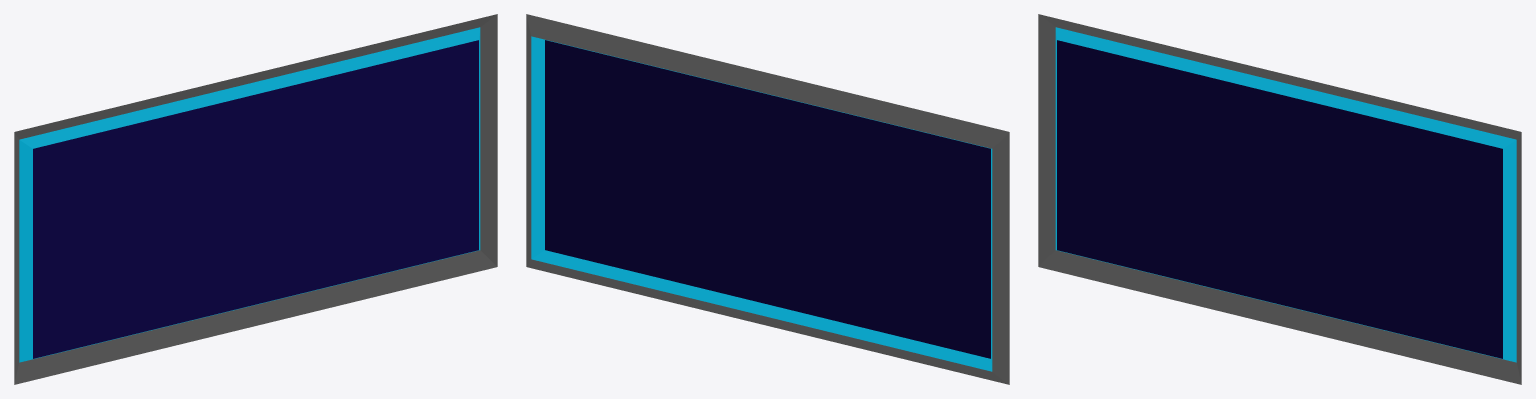
File: button-rect-medium.glb
The picture shows the model from 3 angles, left to right: view 1: azimuth 30°, elevation 25°; view 2: azimuth 150°, elevation 25°; view 3: azimuth 330°, elevation 25°; orthographic projection.
Visible parts, largest first — view 1: save-load-plate; view 2: save-load-plate; view 3: save-load-plate.
Part boxes in pixels (<box>): save-load-plate: <box>14,14,497,384</box>; save-load-plate: <box>526,14,1009,384</box>; save-load-plate: <box>1038,14,1521,384</box>.
Bounding box in the file's own units: 1.6 × 0.8 × 0.0359.
1 material, 1 textured.
